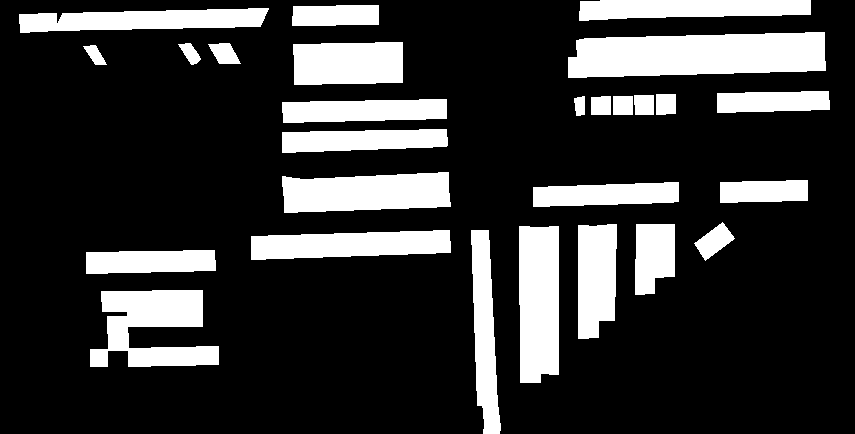parkingspot: (576, 32, 824, 59), (568, 51, 825, 77), (251, 230, 450, 259), (54, 8, 268, 30), (579, 0, 810, 20), (471, 230, 497, 405), (284, 188, 450, 212), (282, 172, 448, 195), (282, 129, 447, 152), (282, 99, 446, 122), (533, 182, 678, 206), (519, 226, 540, 382), (86, 250, 215, 273), (538, 226, 558, 374), (294, 60, 402, 84), (293, 42, 402, 64), (717, 91, 829, 112), (578, 225, 598, 338), (101, 290, 202, 311), (596, 224, 616, 320), (720, 180, 807, 202), (128, 346, 218, 366), (292, 5, 378, 25), (694, 222, 734, 260), (635, 224, 656, 294), (127, 310, 202, 326), (653, 224, 674, 277), (107, 316, 128, 350), (19, 13, 56, 32), (208, 43, 240, 63), (482, 403, 500, 434), (178, 43, 200, 64), (83, 45, 106, 64), (656, 94, 675, 114), (634, 95, 653, 114), (591, 96, 610, 114), (613, 96, 632, 114), (90, 349, 107, 366), (574, 96, 584, 115)
